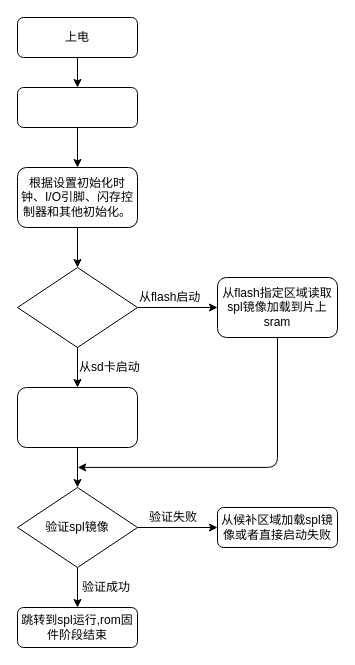
Image size: 355x665. Some labels were removed from this diagram. Each missing label, with the box of its shape:
从sd指定区域读取spl镜像加载到片上sram: (16, 386, 138, 448)
读取判断启动源: (16, 266, 138, 348)
读取开发板开关设置: (16, 86, 138, 128)
